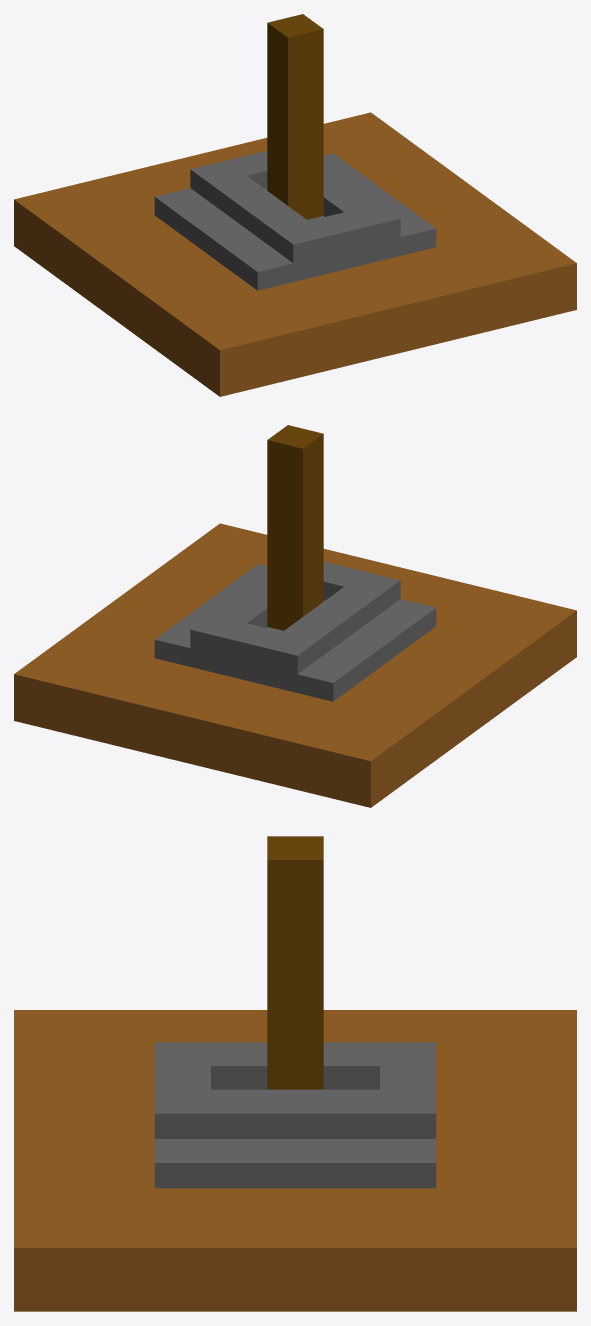
File: Trigger.fbx
3 renders of one model, top to bottom at view 1: azimuth 30°, elevation 25°; view 2: azimuth 150°, elevation 25°; view 3: azimuth 270°, elevation 25°, orthographic. The views are drawn at different scales.
Visible parts, largest first — view 1: Trigger, Switch; view 2: Trigger, Switch; view 3: Trigger, Switch.
Boxes of the visible parts, <box> form: Trigger: <box>14,112,576,396</box>; Switch: <box>267,14,323,219</box>; Trigger: <box>14,523,576,807</box>; Switch: <box>267,425,323,630</box>; Trigger: <box>14,1010,576,1311</box>; Switch: <box>267,836,323,1089</box>.
Bounding box in the file's own units: 200 × 135 × 200.
